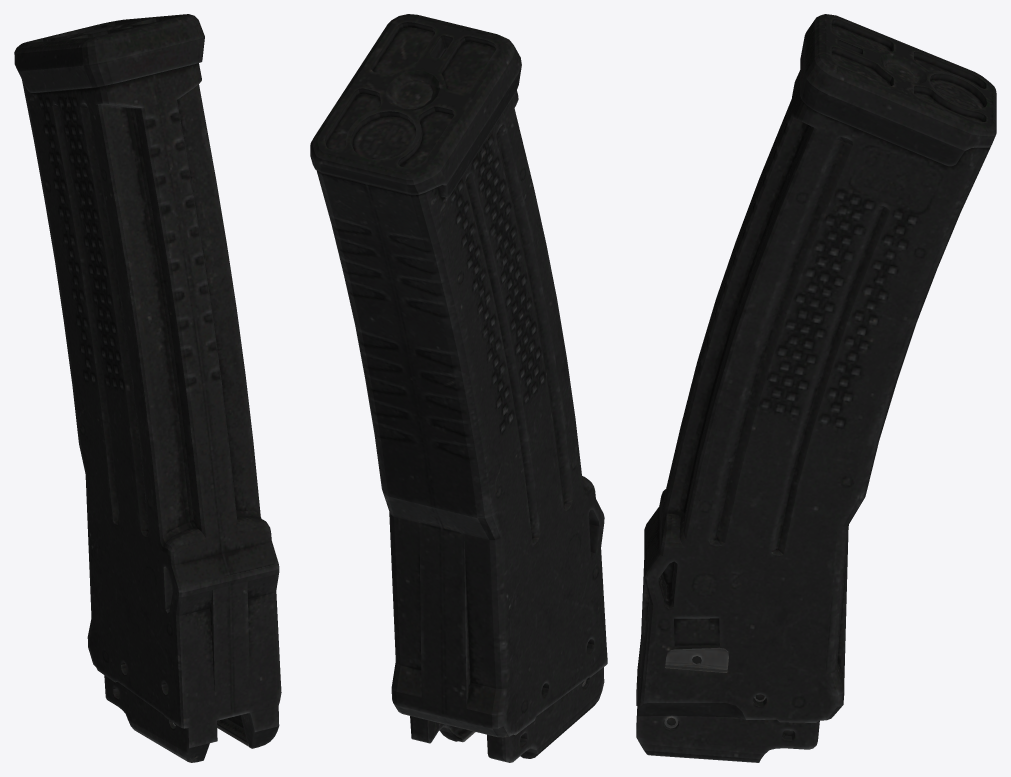
3 renders of one model, left to right at view 1: azimuth 30°, elevation 25°; view 2: azimuth 150°, elevation 25°; view 3: azimuth 270°, elevation 25°, orthographic. The views are drawn at different scales.
Parts seen in each view (by area): view 1: TW_5c5db6552e2216001026119d_PZ_Import; view 2: TW_5c5db6552e2216001026119d_PZ_Import; view 3: TW_5c5db6552e2216001026119d_PZ_Import.
Part boxes in pixels (<box>): TW_5c5db6552e2216001026119d_PZ_Import: <box>14,14,281,762</box>; TW_5c5db6552e2216001026119d_PZ_Import: <box>310,14,607,762</box>; TW_5c5db6552e2216001026119d_PZ_Import: <box>636,14,996,762</box>.
Size of the model in its own units: 0.0178 by 0.0443 by 0.0962.
1 material, 1 textured.
